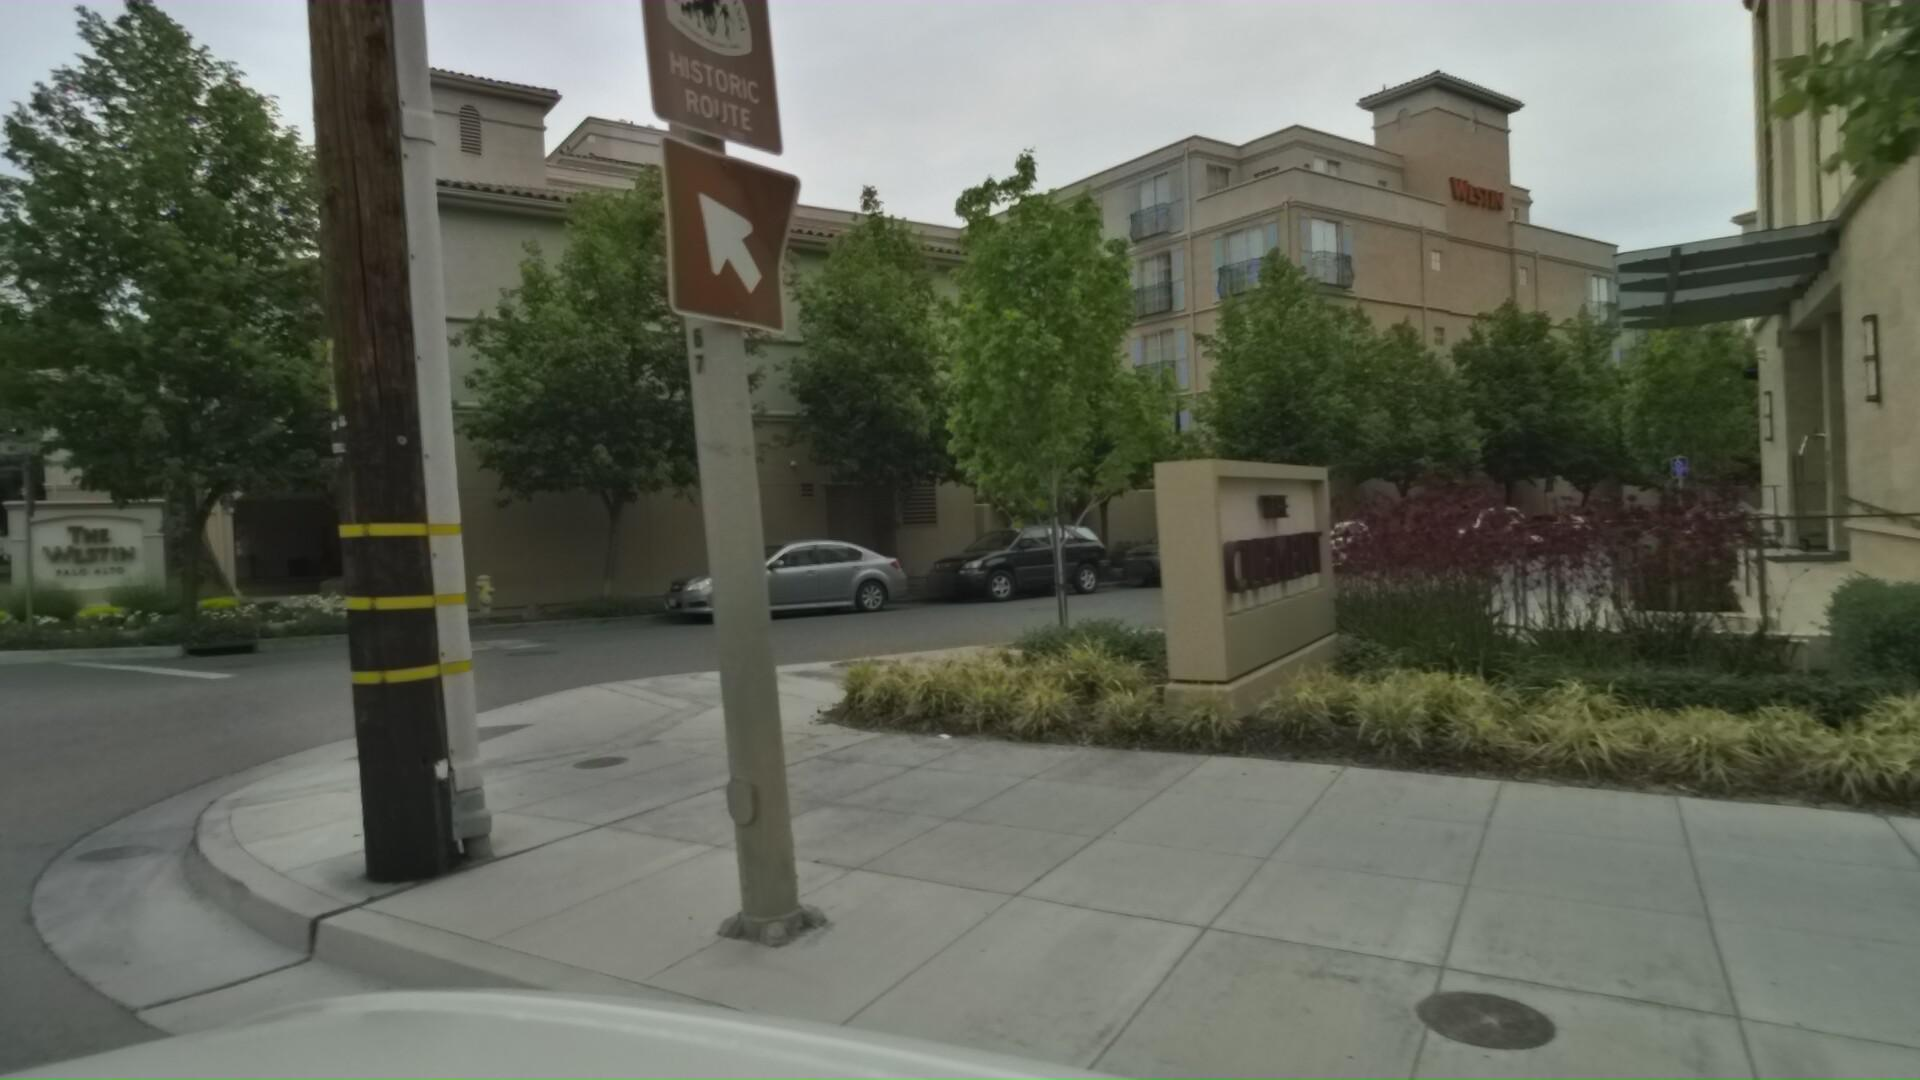car: (659, 522, 932, 634), (924, 508, 1135, 604), (1122, 505, 1284, 584), (1416, 495, 1548, 558)
